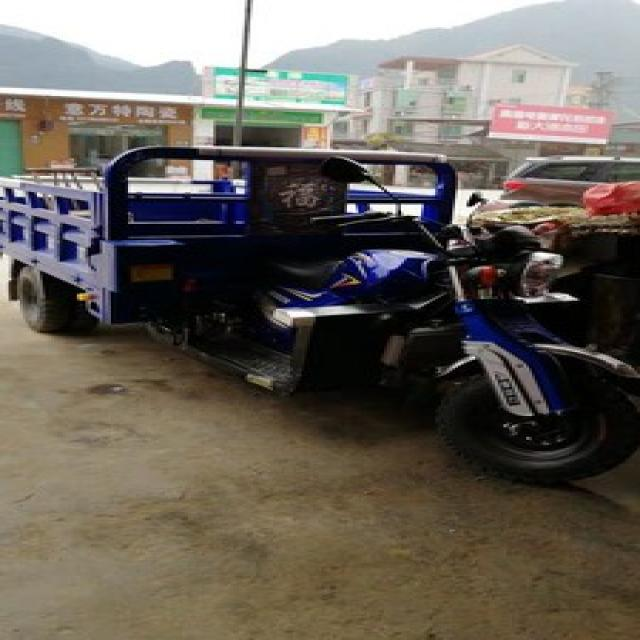car: (498, 150, 637, 207)
pole: (225, 0, 250, 173)
tricycle: (0, 141, 637, 483)
